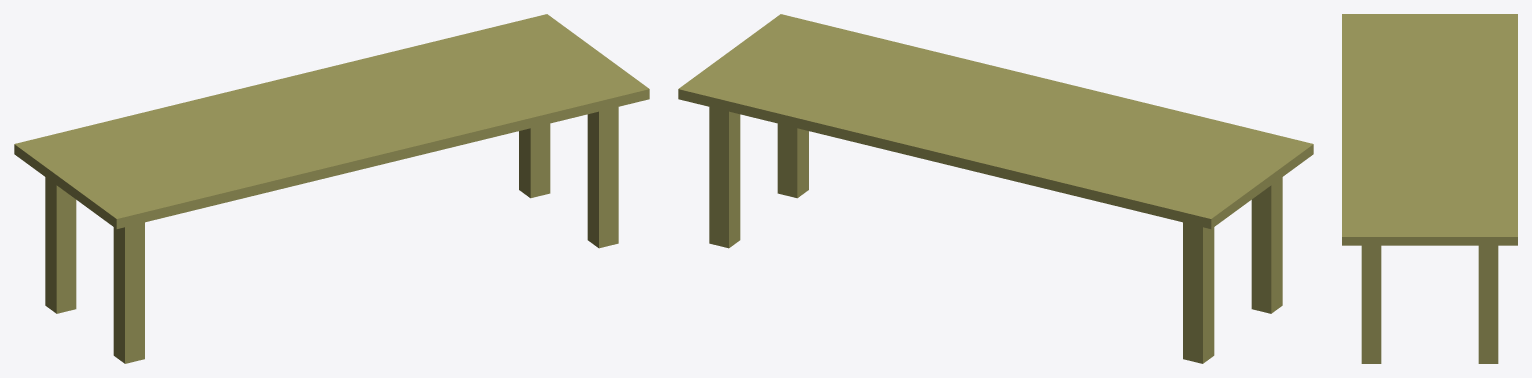
The model's file is Table.obj.
3 views of the same model, side by side, from view 1: azimuth 30°, elevation 25°; view 2: azimuth 150°, elevation 25°; view 3: azimuth 270°, elevation 25° (orthographic). The views are drawn at different scales.
Visible parts, largest first — view 1: Table; view 2: Table; view 3: Table.
Boxes of the visible parts, bbox=[...] form: Table: bbox=[14, 14, 649, 363]; Table: bbox=[678, 14, 1313, 363]; Table: bbox=[1342, 14, 1517, 363].
Bounding box in the file's own units: 3.03 × 0.8575 × 1.01.
